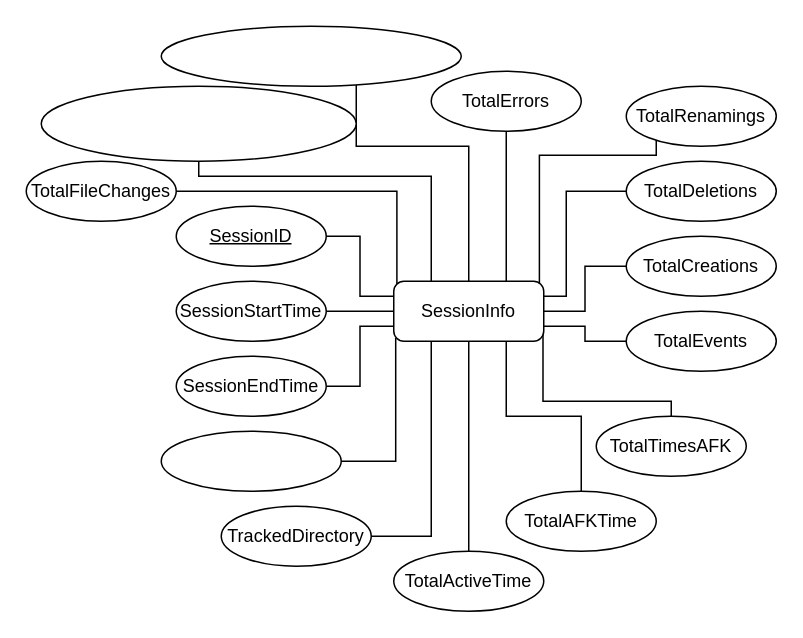
Image size: 803x638. Some labels were removed from this diagram. Each missing label, with the centre of its shape:
"DefaultAFKStartLimitInMiliseconds" goes at (x=198, y=123).
"SessionWasClosedBySystemEvent" goes at (x=310, y=55).
"TotalSessionDuration" goes at (x=250, y=460).
